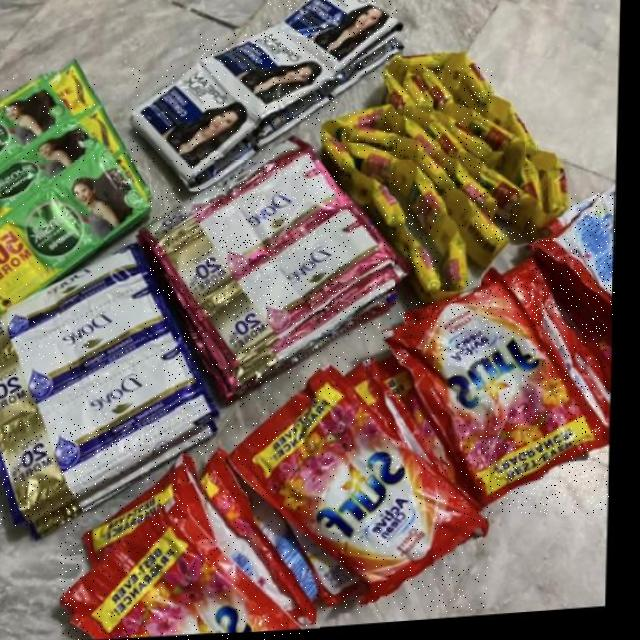wrapper: (227, 368, 488, 612), (387, 279, 609, 514), (84, 455, 320, 632), (0, 331, 214, 526), (186, 204, 399, 377), (61, 502, 302, 640), (0, 243, 175, 424), (148, 149, 345, 308), (0, 147, 150, 309), (128, 65, 259, 189), (346, 361, 458, 494), (0, 77, 96, 217), (199, 33, 337, 125), (531, 192, 615, 319), (269, 0, 400, 79), (439, 194, 508, 278), (406, 175, 454, 270), (474, 174, 537, 242), (461, 123, 525, 188), (425, 121, 484, 187), (348, 146, 414, 204), (390, 144, 452, 195), (396, 232, 442, 300), (446, 168, 495, 228), (353, 178, 404, 234), (488, 107, 537, 160), (322, 112, 403, 143), (389, 63, 464, 95), (457, 65, 493, 127), (538, 175, 571, 237), (320, 130, 352, 182), (414, 69, 453, 111), (404, 74, 433, 120), (519, 167, 541, 221), (447, 237, 465, 295), (351, 131, 397, 152)
